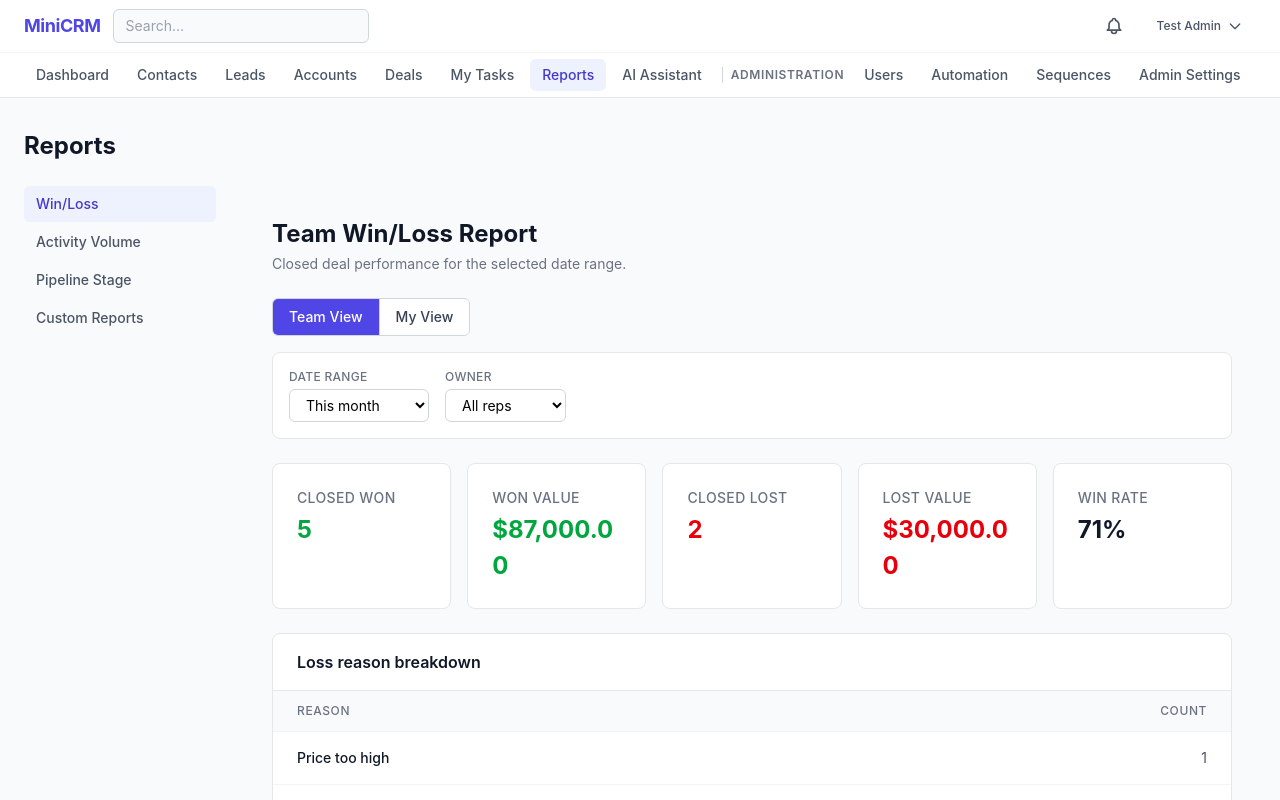
Test case: ReportsPage › clicking the activity tab switches to activity content
Click the tab with test id "reports-tab-activity": (120, 242) [24, 224, 216, 260]
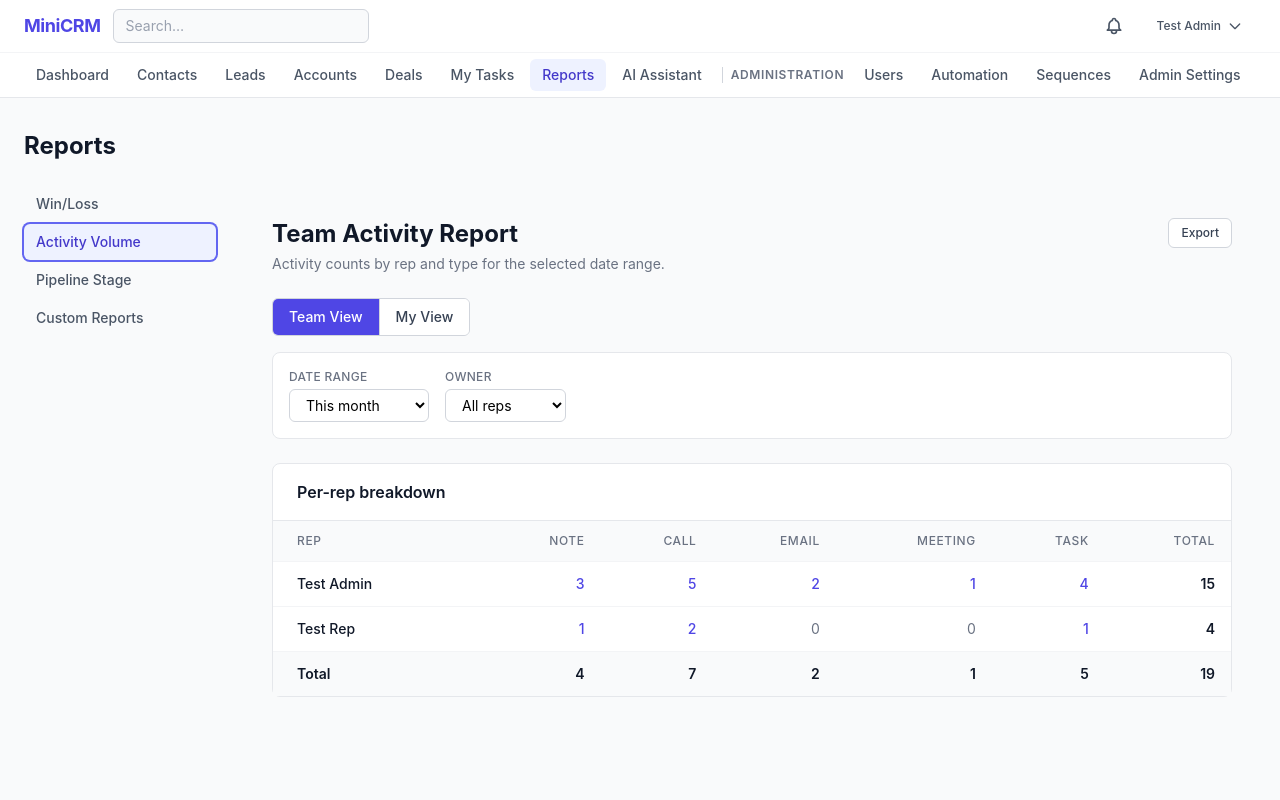
Result: the heading "Team Activity Report" is shown at [272, 219, 518, 248]
Result: the heading with test id "win-loss-report-heading" is gone
